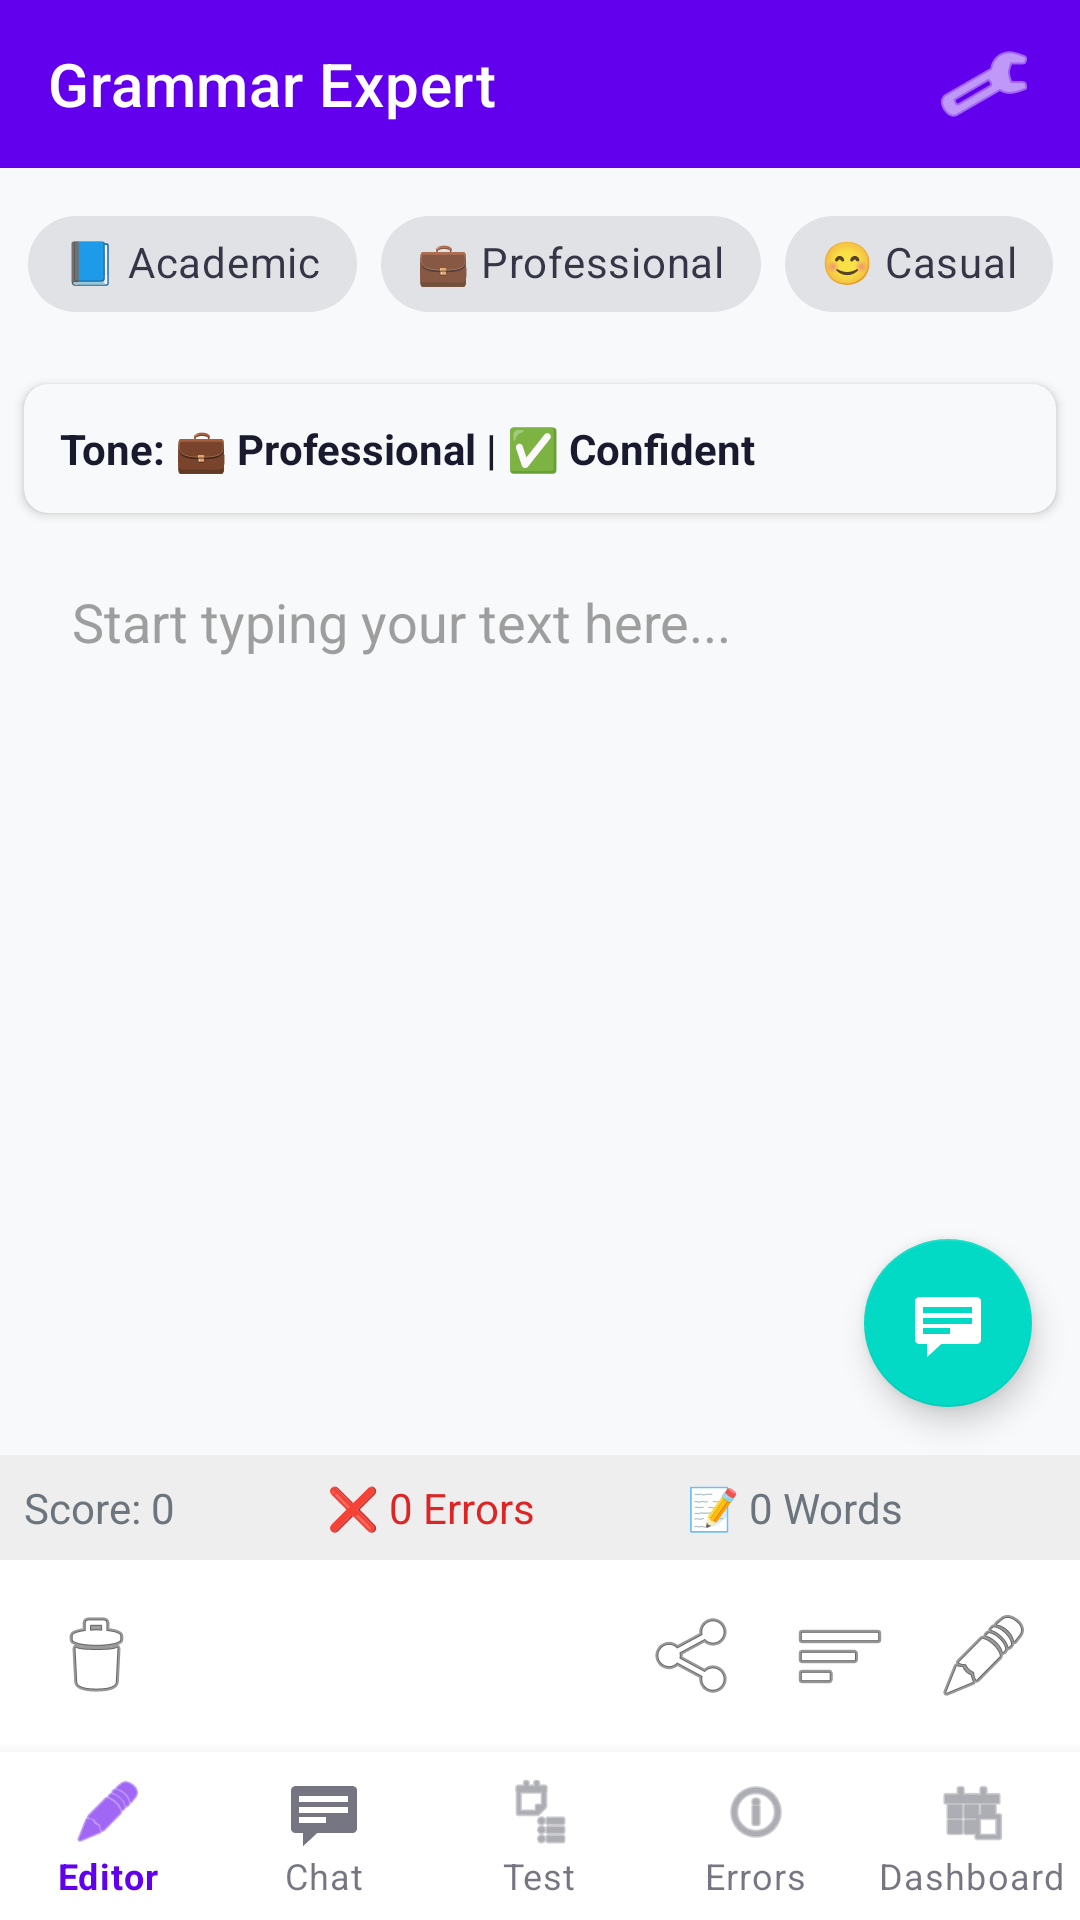

Icons on this 1080 x 1920 Android screen, each with its box as bbox(x1, y1, x2, y2):
AI Chatbot: bbox(864, 1239, 1032, 1407)
Clear: bbox(69, 1617, 124, 1692)
Settings: bbox(941, 51, 1027, 117)
Share: bbox(655, 1618, 727, 1693)
